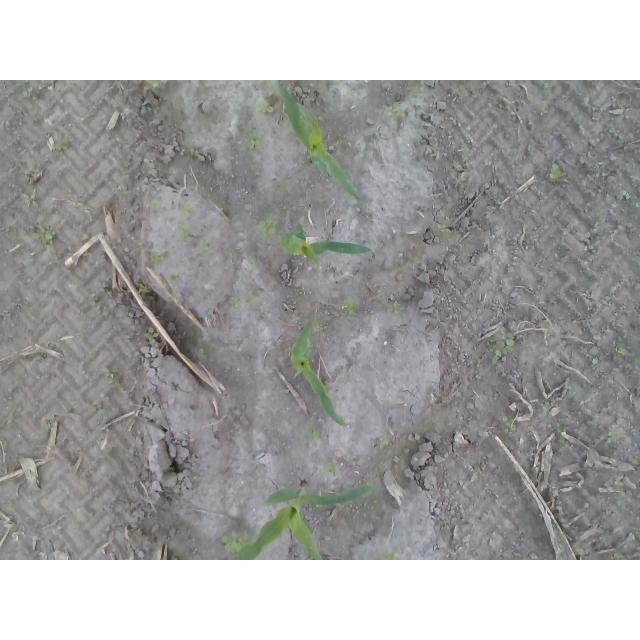Maize: (234, 480, 377, 560), (273, 80, 362, 204), (289, 317, 348, 428), (280, 225, 372, 268)
Weeds: (492, 329, 514, 362), (219, 527, 245, 551), (241, 130, 264, 152), (228, 291, 257, 308), (257, 217, 278, 240), (144, 250, 169, 268), (176, 221, 191, 248), (383, 101, 406, 118), (321, 464, 343, 481), (546, 162, 563, 181), (105, 371, 122, 389), (342, 297, 356, 316), (144, 328, 160, 343), (90, 404, 110, 416), (40, 227, 56, 242), (22, 193, 39, 207), (387, 299, 401, 314), (417, 419, 430, 434), (555, 425, 565, 444), (382, 549, 399, 560), (256, 103, 273, 114), (247, 255, 258, 272), (195, 244, 209, 257), (181, 201, 194, 215), (614, 343, 627, 357), (304, 430, 321, 440), (607, 430, 621, 442), (195, 349, 209, 360), (608, 478, 625, 487), (142, 80, 158, 89), (435, 224, 450, 233), (502, 417, 514, 428), (39, 424, 53, 433), (150, 197, 160, 209), (609, 552, 622, 561), (394, 463, 407, 472), (527, 144, 536, 157), (57, 141, 68, 151), (222, 247, 233, 257), (137, 282, 144, 295), (539, 399, 549, 407), (171, 272, 179, 282), (541, 80, 551, 88), (632, 355, 640, 365), (632, 526, 640, 535), (631, 458, 640, 466), (292, 313, 301, 321), (379, 437, 385, 448), (79, 233, 85, 240)
